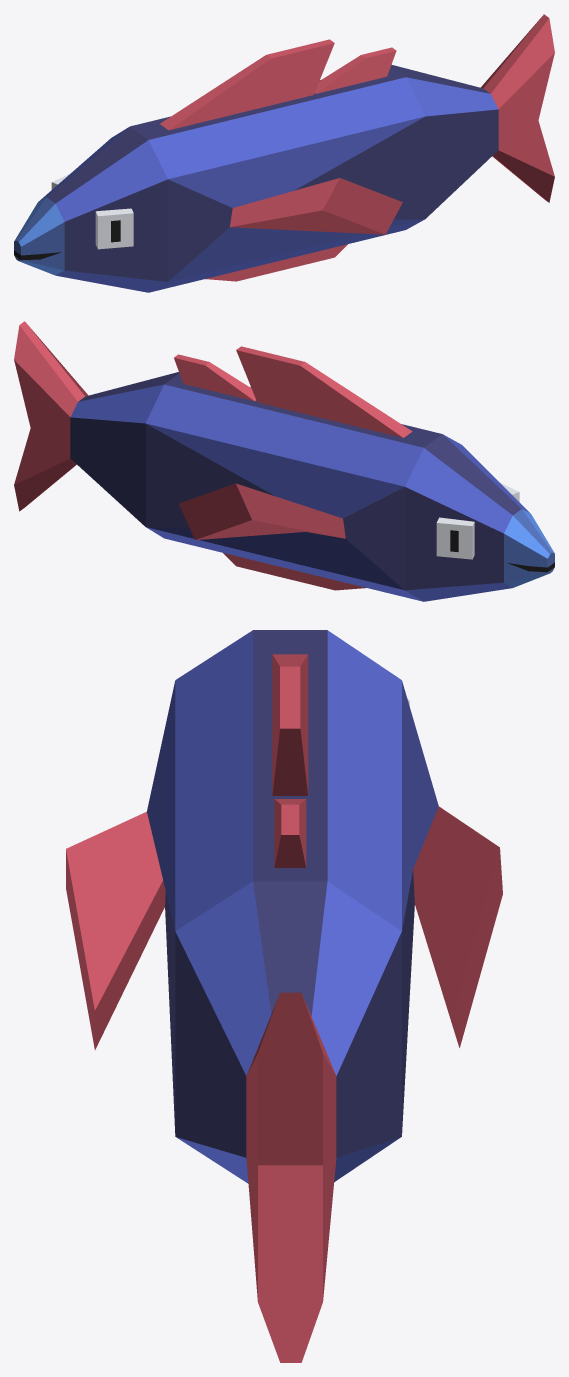
The model's file is fish_lowpoly.fbx.
3 views of the same model, one above another, from view 1: azimuth 30°, elevation 25°; view 2: azimuth 150°, elevation 25°; view 3: azimuth 270°, elevation 25° (orthographic). The views are drawn at different scales.
Visible parts, largest first — view 1: fish; view 2: fish; view 3: fish.
Part boxes in pixels (x1=…): fish: x1=14, y1=14, x2=554, y2=292; fish: x1=14, y1=321, x2=554, y2=601; fish: x1=66, y1=630, x2=502, y2=1362.
Size of the model in its own units: 304 by 118 by 109.
